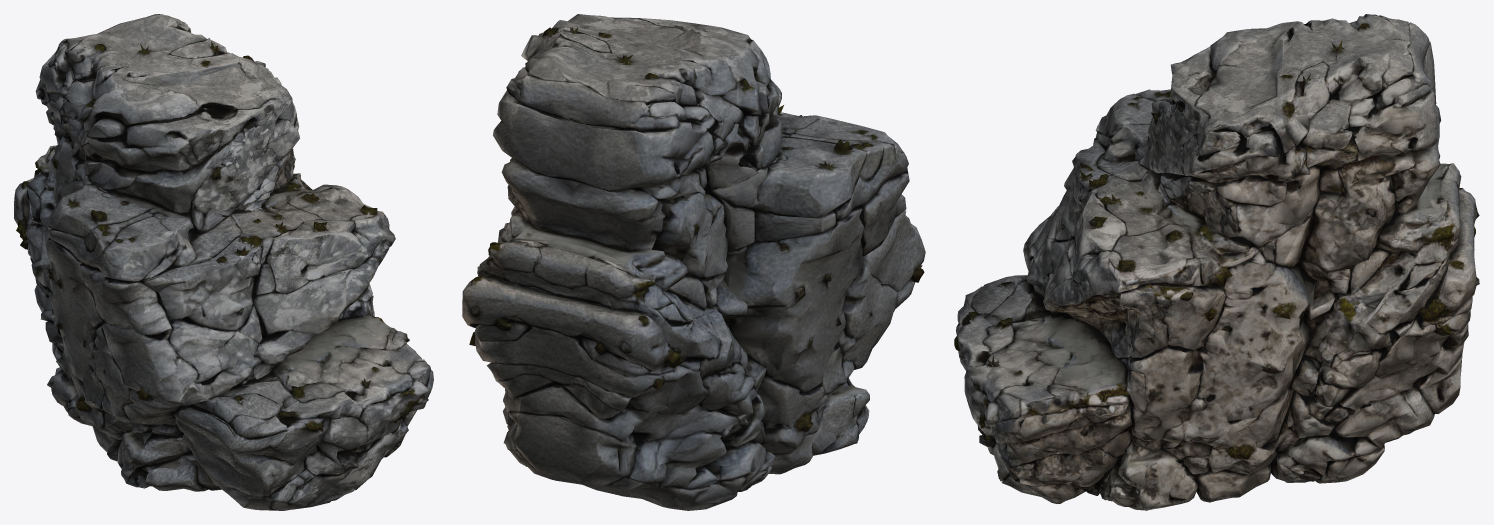
Rendered from CW_HF_Limestone_LOD1.fbx.
The picture shows the model from 3 angles, left to right: view 1: azimuth 30°, elevation 25°; view 2: azimuth 150°, elevation 25°; view 3: azimuth 270°, elevation 25°; orthographic projection. The views are drawn at different scales.
Visible parts, largest first — view 1: CW_HF_Limestone_LOD1; view 2: CW_HF_Limestone_LOD1; view 3: CW_HF_Limestone_LOD1.
Part boxes in pixels (left/top/right/bottom): CW_HF_Limestone_LOD1: left=14, top=14, right=433, bottom=510; CW_HF_Limestone_LOD1: left=462, top=14, right=925, bottom=510; CW_HF_Limestone_LOD1: left=954, top=14, right=1479, bottom=510.
Bounding box in the file's own units: 5 × 6.05 × 6.84.
Materials: 1 (1 with a texture image).
